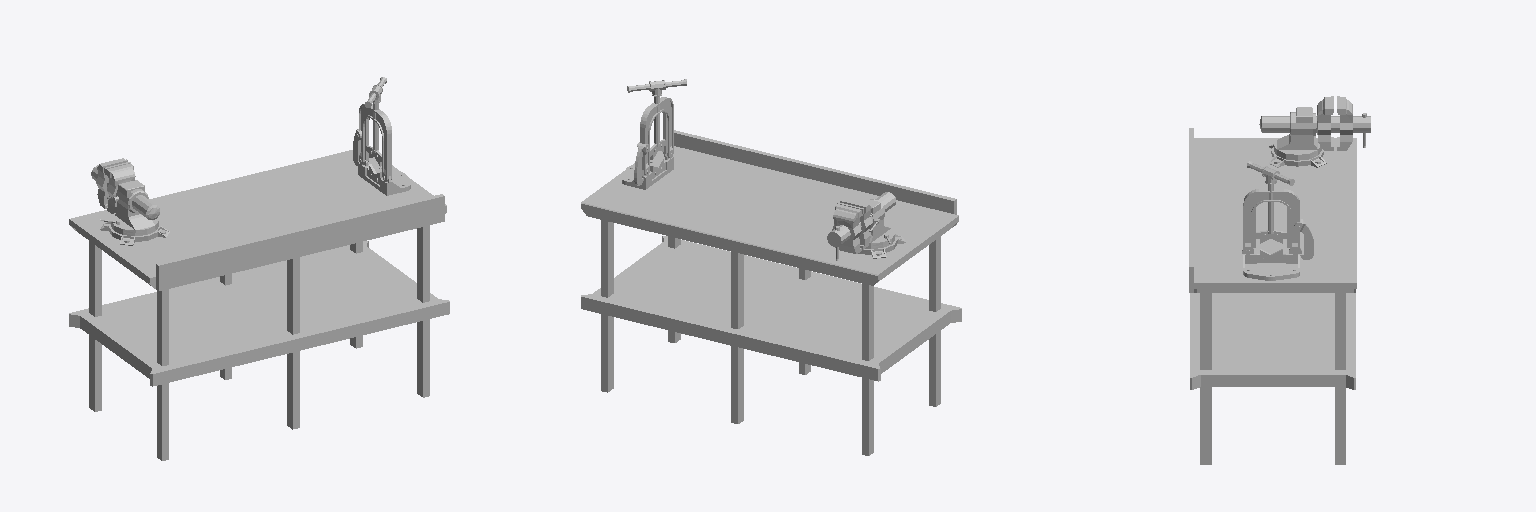
File: uploads_files_2798966_WorkBench.obj
3 views of the same model, side by side, from view 1: azimuth 30°, elevation 25°; view 2: azimuth 150°, elevation 25°; view 3: azimuth 270°, elevation 25° (orthographic).
Visible parts, largest first — view 1: WorkBench; view 2: WorkBench; view 3: WorkBench.
Part boxes in pixels (left/top/right/bottom): WorkBench: left=69, top=77, right=449, bottom=460; WorkBench: left=581, top=79, right=961, bottom=455; WorkBench: left=1189, top=96, right=1370, bottom=464.
Size of the model in its own units: 108 by 99.55 by 57.37.